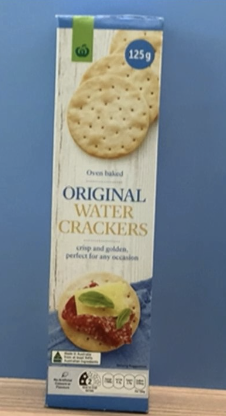crackers_150g: (54, 18, 151, 396)
